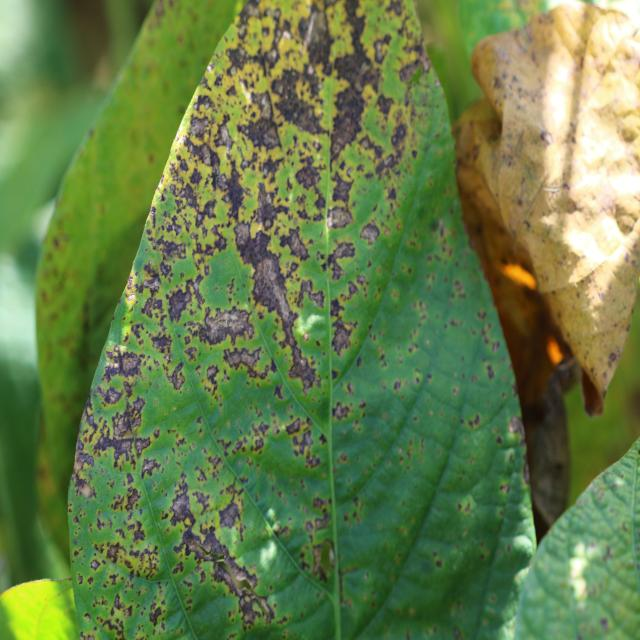Bacterial_Blight: (328, 394, 412, 501), (387, 326, 445, 403), (248, 250, 298, 331), (233, 209, 285, 284), (269, 67, 322, 134), (94, 531, 156, 579), (330, 90, 369, 161), (91, 585, 141, 638), (202, 252, 248, 308), (299, 6, 334, 70), (202, 306, 256, 347), (237, 114, 281, 158), (160, 243, 200, 289), (218, 163, 248, 221), (285, 344, 319, 390), (304, 538, 336, 582), (174, 522, 209, 560), (237, 590, 271, 629), (358, 206, 382, 259), (166, 283, 196, 325), (167, 483, 196, 526), (223, 346, 265, 374), (380, 67, 409, 106), (294, 311, 326, 345), (110, 435, 141, 469), (330, 170, 357, 208), (295, 162, 324, 196), (330, 318, 356, 355), (283, 227, 311, 261), (115, 348, 143, 378), (140, 292, 167, 323), (158, 237, 188, 264), (510, 532, 535, 564), (329, 240, 356, 269), (218, 499, 242, 529), (141, 260, 163, 292), (188, 112, 213, 140), (327, 206, 354, 230), (479, 322, 501, 351), (165, 362, 186, 392), (74, 450, 96, 476), (127, 395, 147, 423), (238, 73, 255, 105), (233, 221, 252, 249), (122, 486, 142, 512), (332, 400, 353, 421), (102, 386, 124, 406), (507, 414, 524, 439), (140, 458, 159, 480), (149, 601, 165, 626), (105, 541, 123, 563), (284, 417, 303, 435), (76, 480, 94, 499), (115, 414, 131, 435), (410, 65, 424, 86), (237, 576, 254, 592), (210, 163, 219, 190), (453, 279, 465, 295), (265, 507, 277, 523), (485, 363, 495, 380), (210, 552, 225, 563), (470, 413, 480, 428), (499, 483, 510, 494), (393, 379, 402, 392), (477, 309, 487, 320), (90, 559, 99, 571), (307, 64, 315, 76), (153, 429, 160, 439), (435, 558, 442, 568)
Soybean: (68, 0, 529, 640)
